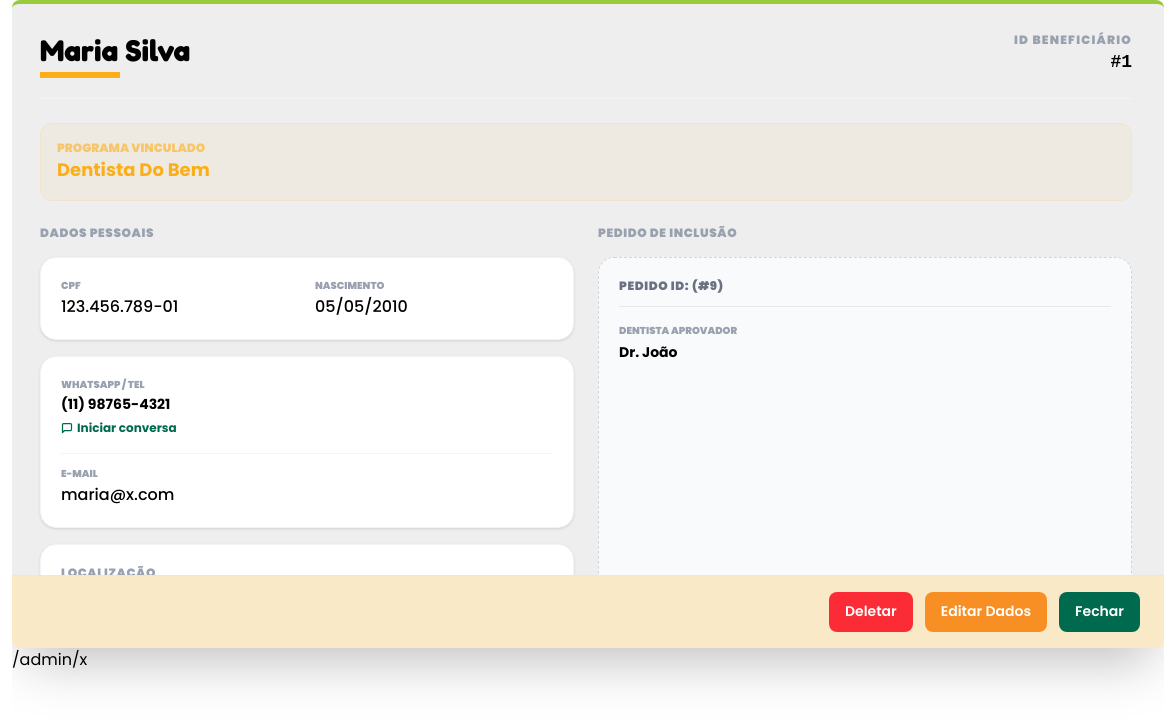
Scenario: BeneficiarioDetails › o link "Iniciar conversa" leva ao chat e fecha o modal
The image size is (1164, 720).
Click the link "Iniciar conversa". click: (119, 428)
box: [61,420,177,436]
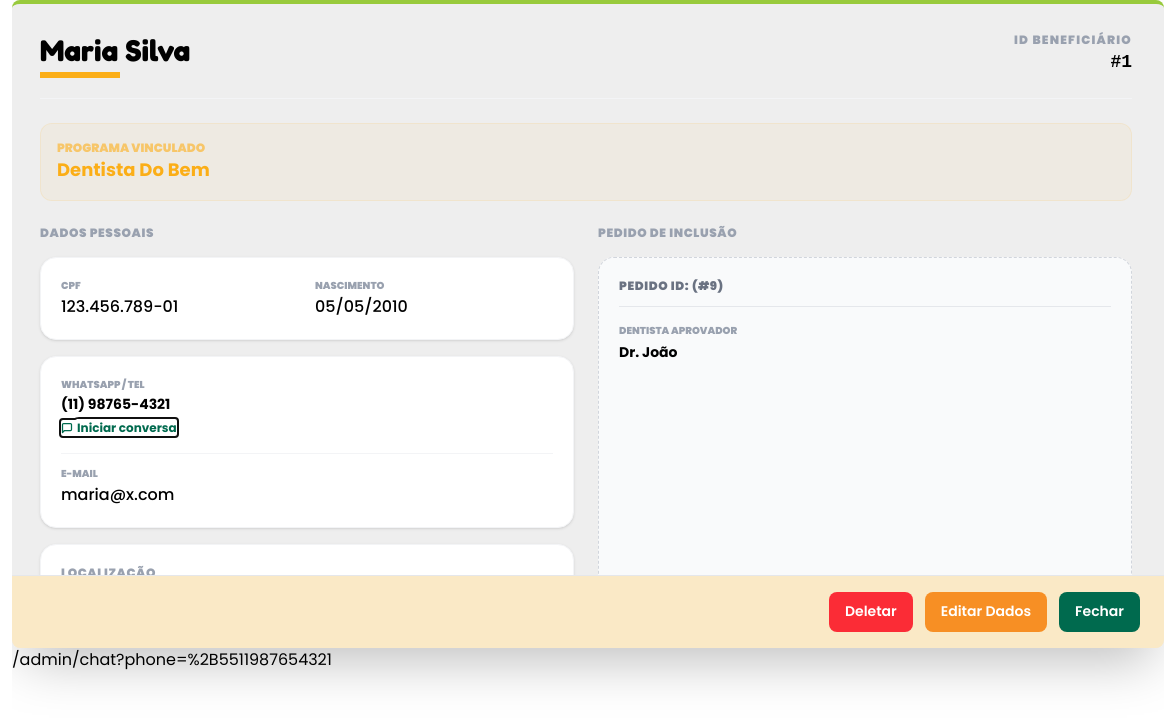
Check: the text with test id "local" reads "/admin/chat?phone=%2B5511987654321", box [12,648,332,671]
